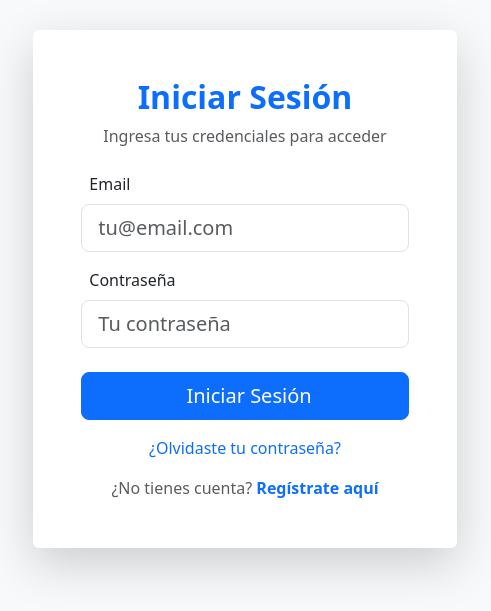
Test: Login Component › shows validation errors for empty fields
Step 1. Click the button "Iniciar Sesión" → (245, 396), box 81,372 -> 409,420
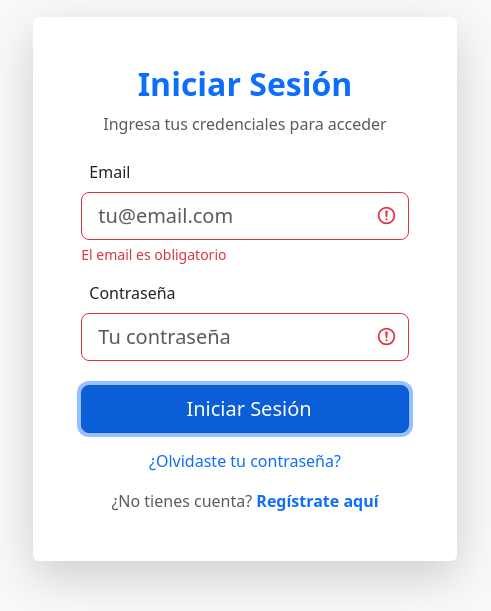
Expected: the text "El email es obligatorio" is shown, 81,245 -> 226,264
